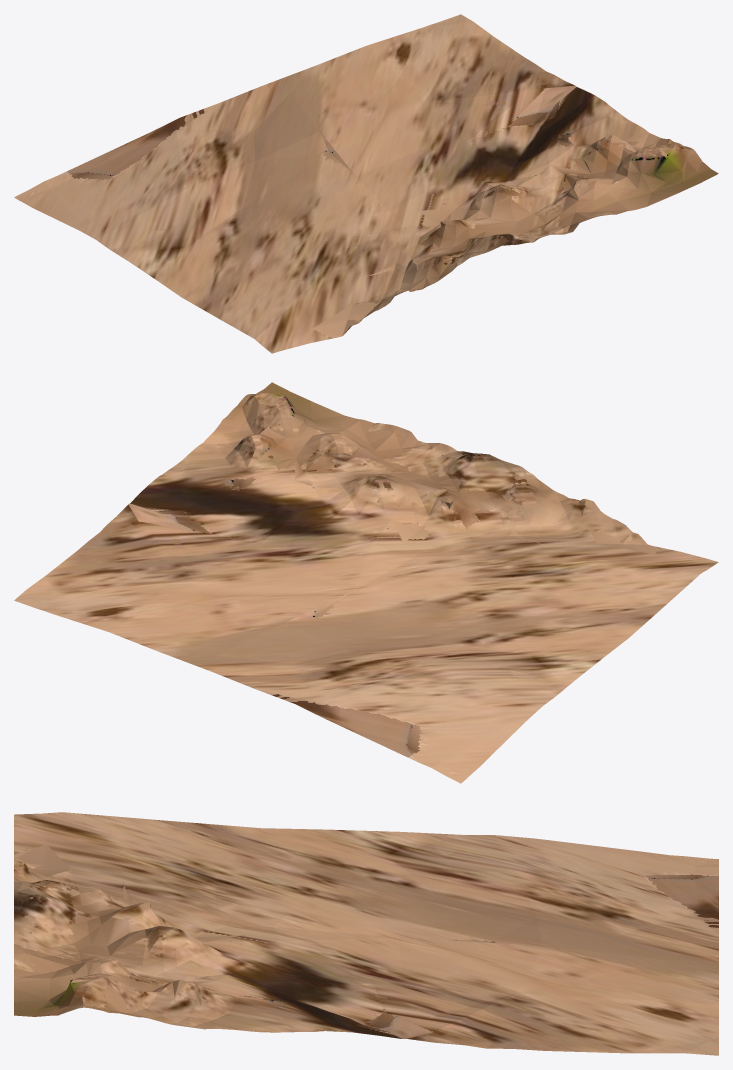
3 views of the same model, one above another, from view 1: azimuth 30°, elevation 25°; view 2: azimuth 150°, elevation 25°; view 3: azimuth 270°, elevation 25° (orthographic). The views are drawn at different scales.
Bounding box in the file's own units: 1.04 × 0.261 × 1.04.
3 materials, 3 textured.
